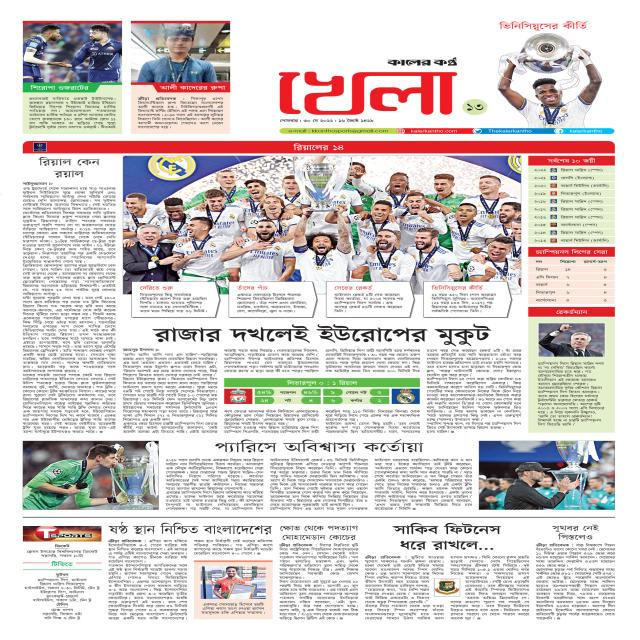caption: (201, 602, 265, 615), (159, 84, 226, 91), (29, 85, 91, 91)
image: (129, 154, 524, 285), (495, 34, 609, 128), (478, 439, 616, 510), (23, 441, 159, 510), (132, 22, 232, 83), (23, 23, 120, 84), (536, 322, 606, 358), (200, 563, 268, 599), (432, 578, 461, 597), (394, 388, 419, 404), (226, 389, 249, 403), (226, 389, 247, 403)
page number: (461, 99, 488, 115)
paragraph: (21, 296, 116, 372), (122, 352, 220, 420), (363, 554, 452, 622), (21, 373, 117, 434), (447, 554, 531, 621), (372, 458, 473, 511), (269, 457, 368, 510), (23, 209, 116, 264), (536, 360, 605, 427), (107, 564, 188, 621), (425, 377, 523, 421), (535, 567, 616, 620), (133, 96, 226, 131), (278, 580, 359, 620), (164, 458, 265, 490), (27, 96, 117, 130), (21, 264, 116, 295), (279, 543, 358, 579), (426, 348, 523, 377), (324, 347, 421, 374), (223, 348, 319, 374), (24, 185, 115, 211), (164, 490, 263, 512), (108, 537, 188, 563), (533, 543, 616, 567), (221, 409, 320, 426), (236, 292, 307, 314), (430, 290, 497, 313), (333, 292, 405, 313), (139, 293, 209, 314), (193, 538, 274, 556), (324, 421, 422, 435), (324, 409, 420, 421), (123, 422, 217, 434), (426, 422, 521, 432), (224, 426, 318, 434)
table: (529, 156, 614, 245), (222, 378, 422, 404), (528, 246, 613, 306)
text: (25, 581, 97, 594), (278, 117, 377, 125), (29, 596, 93, 608), (24, 549, 99, 558), (531, 237, 612, 245), (289, 143, 350, 152), (533, 248, 610, 255), (288, 379, 360, 386), (537, 198, 609, 204), (536, 230, 607, 236), (545, 157, 598, 165), (40, 611, 83, 620), (549, 167, 604, 174), (541, 175, 603, 181), (537, 191, 608, 196), (50, 531, 93, 539), (248, 249, 280, 258), (535, 222, 605, 226), (538, 215, 606, 219), (559, 183, 611, 188), (257, 389, 274, 404), (533, 247, 611, 250), (530, 208, 606, 211), (549, 231, 604, 235), (339, 388, 370, 394), (124, 347, 159, 352), (51, 561, 74, 567), (32, 143, 48, 151), (302, 388, 319, 395), (22, 182, 51, 186), (534, 290, 557, 295), (374, 397, 388, 405), (52, 543, 72, 548), (534, 275, 559, 279), (280, 390, 296, 396), (328, 388, 340, 396), (536, 299, 555, 303), (347, 398, 366, 402), (534, 283, 552, 287), (534, 268, 551, 272), (586, 260, 608, 263), (55, 572, 71, 576), (560, 259, 576, 263), (375, 389, 385, 395), (328, 398, 339, 403), (533, 259, 546, 263), (563, 282, 571, 288), (283, 396, 291, 402), (302, 398, 316, 401), (601, 291, 609, 295), (601, 275, 609, 279), (564, 267, 572, 271), (565, 275, 571, 280), (601, 268, 608, 272), (601, 284, 608, 287), (564, 299, 571, 302), (601, 299, 608, 302)
title: (276, 68, 465, 119), (150, 323, 496, 346), (390, 522, 504, 551), (217, 439, 423, 454), (108, 521, 270, 535), (37, 157, 102, 179), (278, 524, 359, 541), (496, 18, 591, 32), (383, 56, 462, 69), (551, 523, 600, 540), (431, 285, 487, 291), (333, 285, 373, 291), (555, 309, 591, 315), (236, 285, 269, 291), (138, 286, 175, 291)
